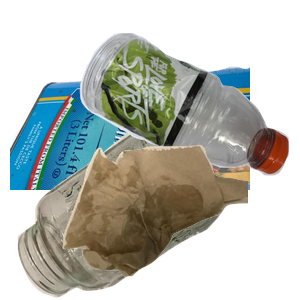glass: (15, 126, 229, 300)
metal: (10, 64, 250, 244)
plastic: (77, 30, 300, 198)
trash: (60, 142, 300, 300)
